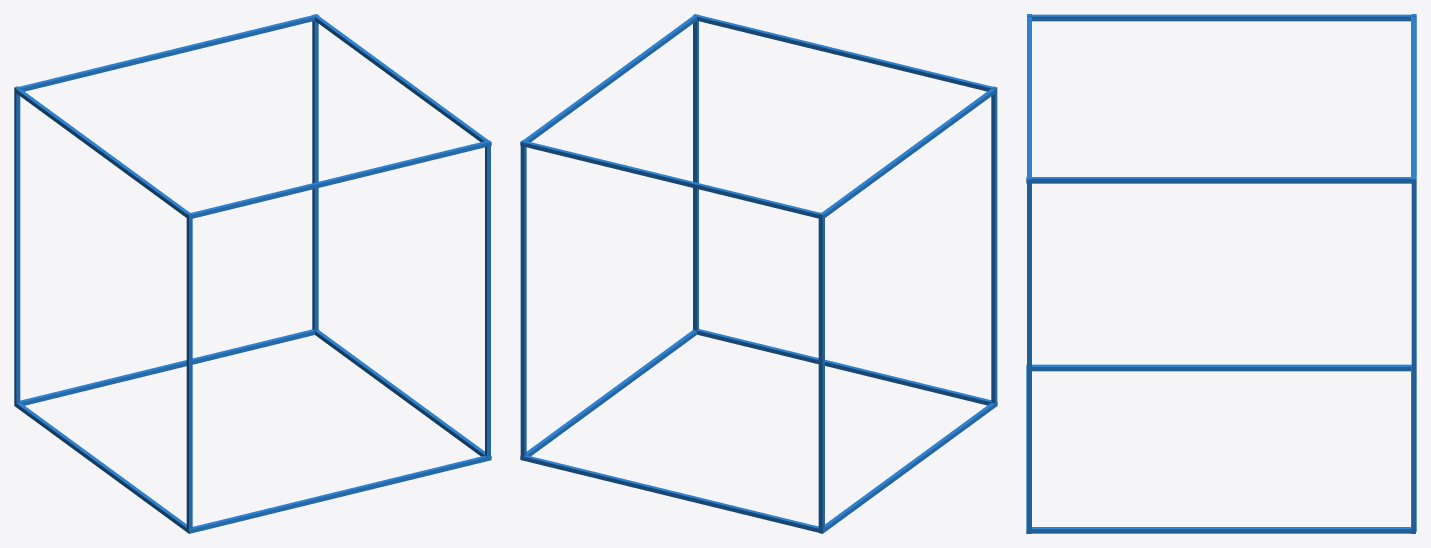
File: workspace_bounds.fbx
3 views of the same model, side by side, from view 1: azimuth 30°, elevation 25°; view 2: azimuth 150°, elevation 25°; view 3: azimuth 270°, elevation 25° (orthographic). The views are drawn at different scales.
Visible parts, largest first — view 1: Cube.009, Cube.004, Cube.011, Cube, Cube.008, Cube.005, Cube.001, Cube.010, Cube.007, Cube.006, Cube.002, Cube.003; view 2: Cube.011, Cube.004, Cube.009, Cube.005, Cube.001, Cube.008, Cube, Cube.010, Cube.006, Cube.002, Cube.003, Cube.007; view 3: Cube.002, Cube.006, Cube.003, Cube.007, Cube.011, Cube.010, Cube.005, Cube.008.
Boxes of the visible parts, x1=… form: Cube.009: x1=186, y1=212, x2=192, y2=529; Cube.004: x1=14, y1=86, x2=20, y2=403; Cube.011: x1=312, y1=14, x2=318, y2=330; Cube: x1=187, y1=455, x2=491, y2=533; Cube.008: x1=186, y1=140, x2=491, y2=219; Cube.005: x1=14, y1=14, x2=318, y2=93; Cube.001: x1=14, y1=329, x2=318, y2=407; Cube.010: x1=485, y1=140, x2=490, y2=456; Cube.007: x1=315, y1=16, x2=491, y2=146; Cube.006: x1=16, y1=88, x2=189, y2=217; Cube.002: x1=16, y1=402, x2=186, y2=531; Cube.003: x1=315, y1=330, x2=490, y2=456; Cube.011: x1=520, y1=140, x2=526, y2=459; Cube.004: x1=818, y1=212, x2=824, y2=529; Cube.009: x1=991, y1=86, x2=997, y2=403; Cube.005: x1=520, y1=140, x2=825, y2=219; Cube.001: x1=520, y1=455, x2=825, y2=533; Cube.008: x1=692, y1=14, x2=997, y2=93; Cube: x1=697, y1=329, x2=997, y2=407; Cube.010: x1=693, y1=14, x2=698, y2=332; Cube.006: x1=818, y1=88, x2=994, y2=219; Cube.002: x1=818, y1=402, x2=995, y2=533; Cube.003: x1=520, y1=330, x2=697, y2=460; Cube.007: x1=523, y1=16, x2=696, y2=141; Cube.002: x1=1032, y1=364, x2=1411, y2=371; Cube.006: x1=1032, y1=14, x2=1410, y2=21; Cube.003: x1=1026, y1=527, x2=1411, y2=533; Cube.007: x1=1026, y1=177, x2=1410, y2=183; Cube.011: x1=1411, y1=176, x2=1416, y2=531; Cube.010: x1=1027, y1=176, x2=1031, y2=529; Cube.005: x1=1411, y1=14, x2=1415, y2=183; Cube.008: x1=1027, y1=16, x2=1031, y2=183.
Bounding box in the file's own units: 2032 × 2044 × 2035.
